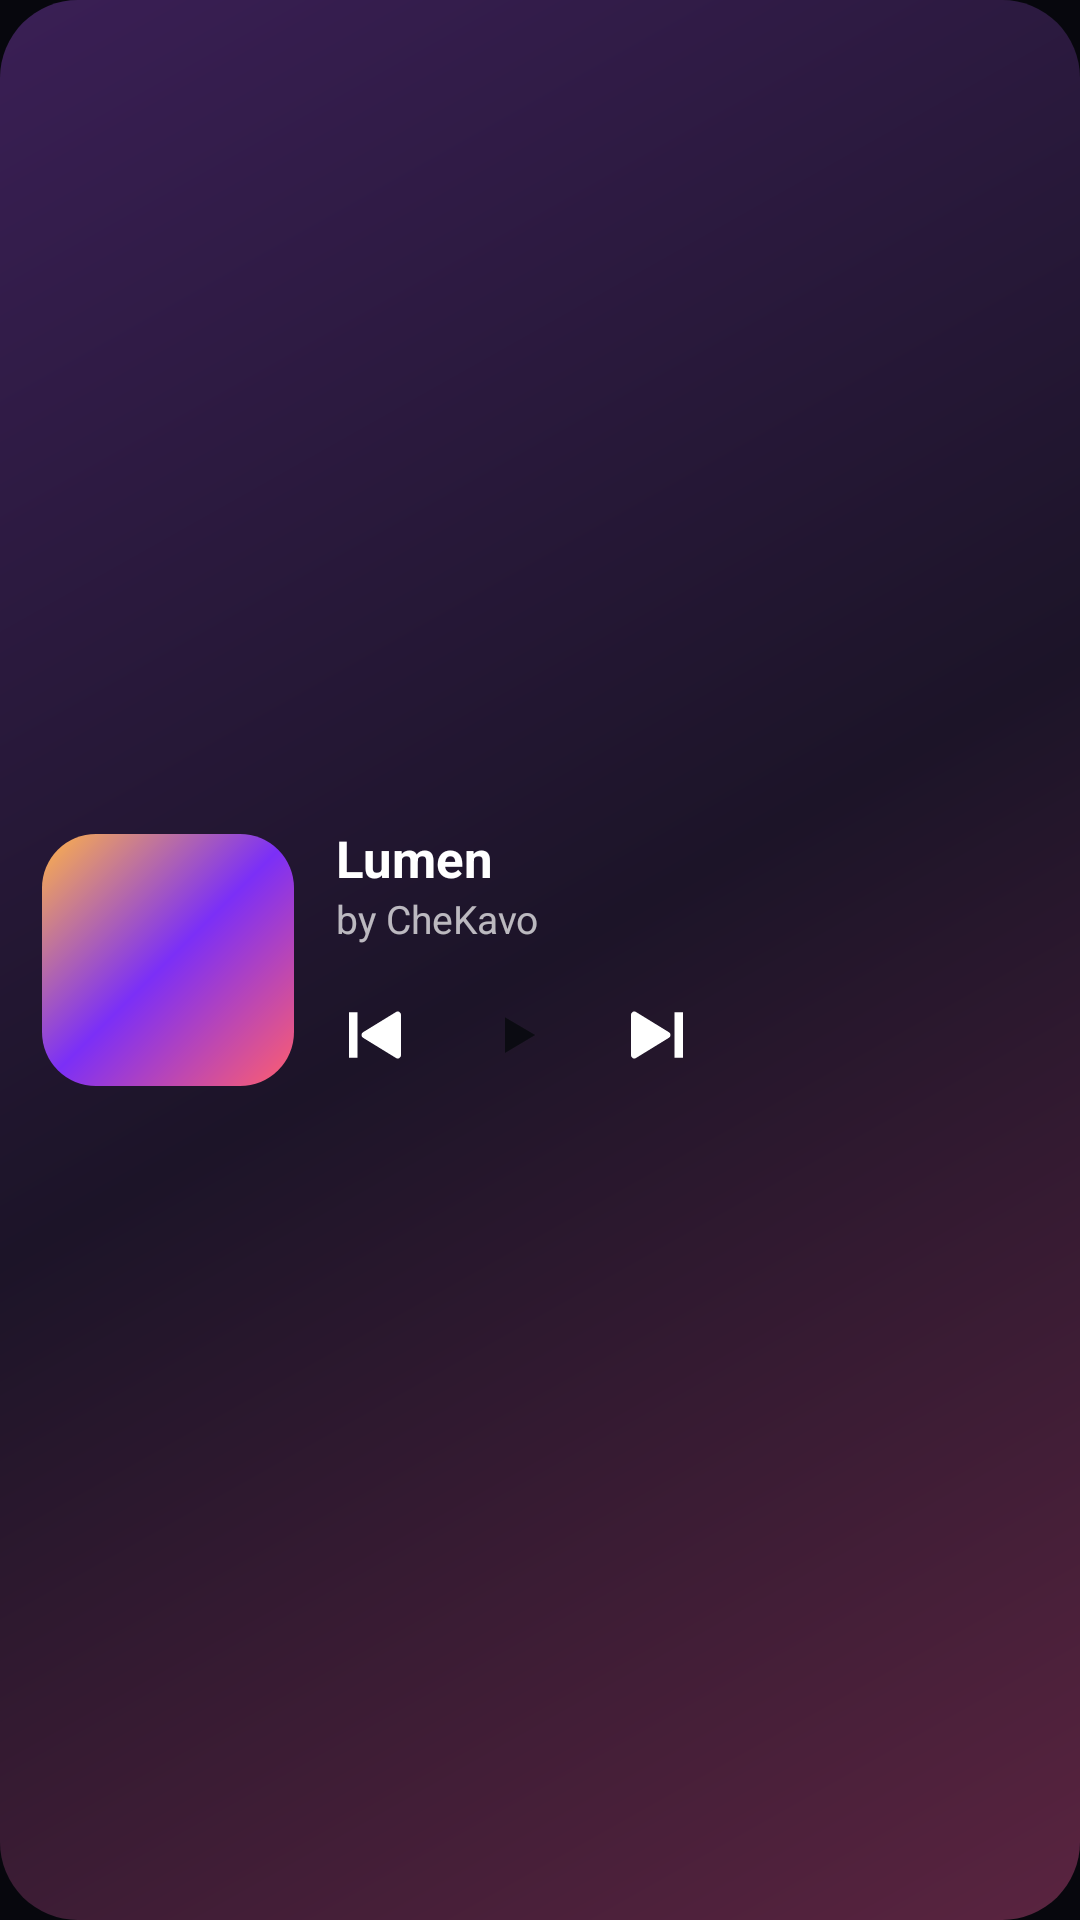

Named icons in this screenshot (1080x1920) and their centers, point (x, y):
next: point (657, 1035)
prev: point (375, 1035)
